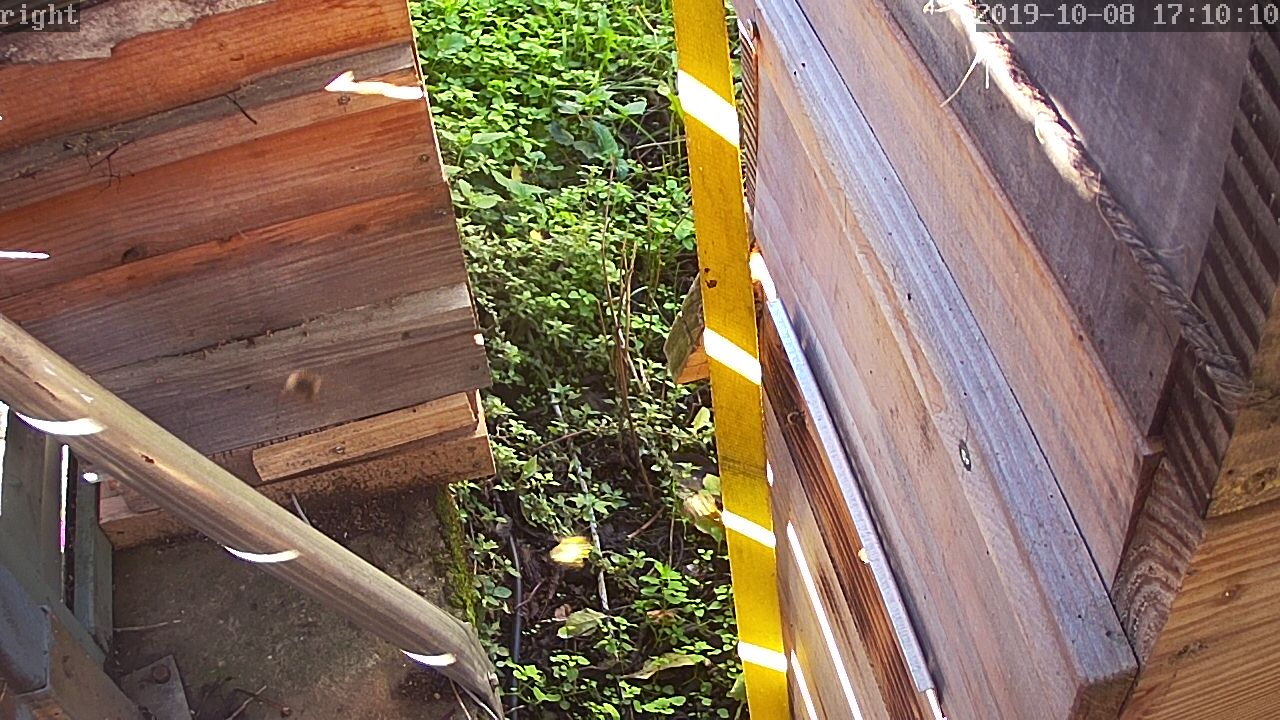hornet: (374, 649, 491, 713)
